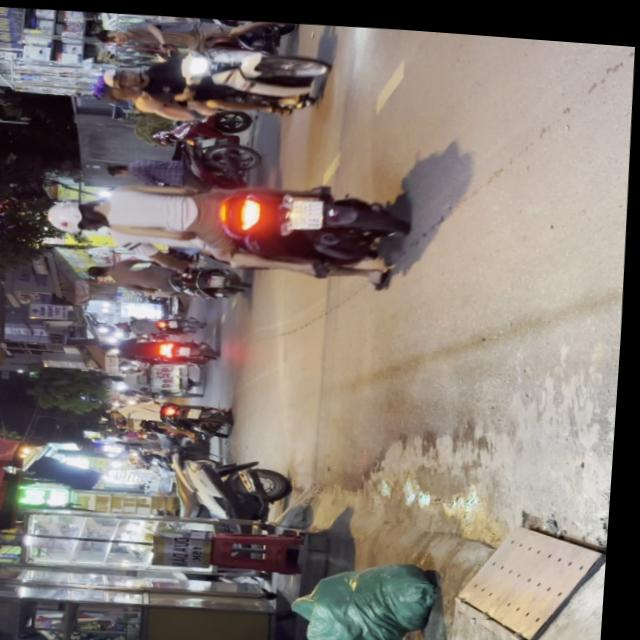helmet: (47, 192, 111, 233), (102, 63, 145, 87), (92, 77, 134, 99)
licenseplate: (41, 157, 415, 287), (93, 32, 333, 123)
motorcyclist: (93, 24, 130, 43)
nohelmet: (289, 191, 325, 224)
